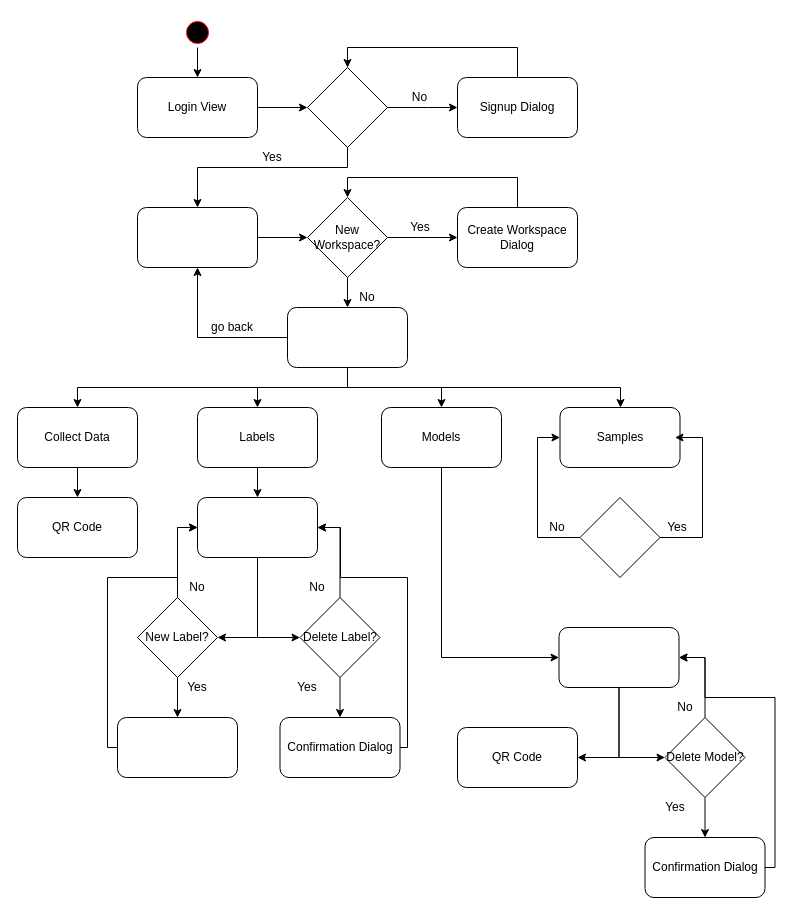
This 801x915 diagram has some shape labels left out. The centre of each missing label's shape, as x and y in pixels:
"Delete Sample?" goes at point (619, 537).
"Have Account?" goes at point (347, 107).
"Labels List" goes at point (257, 527).
"Models List" goes at point (618, 657).
"New Label Dialog" goes at point (177, 747).
"Workspace View" goes at point (347, 337).
"Workspaces View" goes at point (197, 237).
